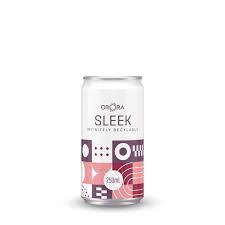can: (79, 74, 148, 209)
